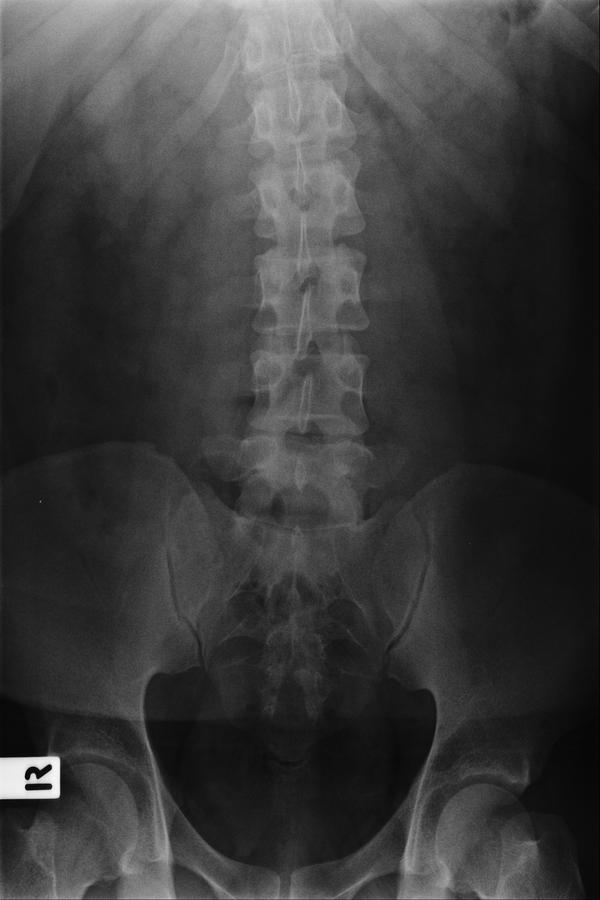lumbar scoliosis: (226, 128, 377, 534)
